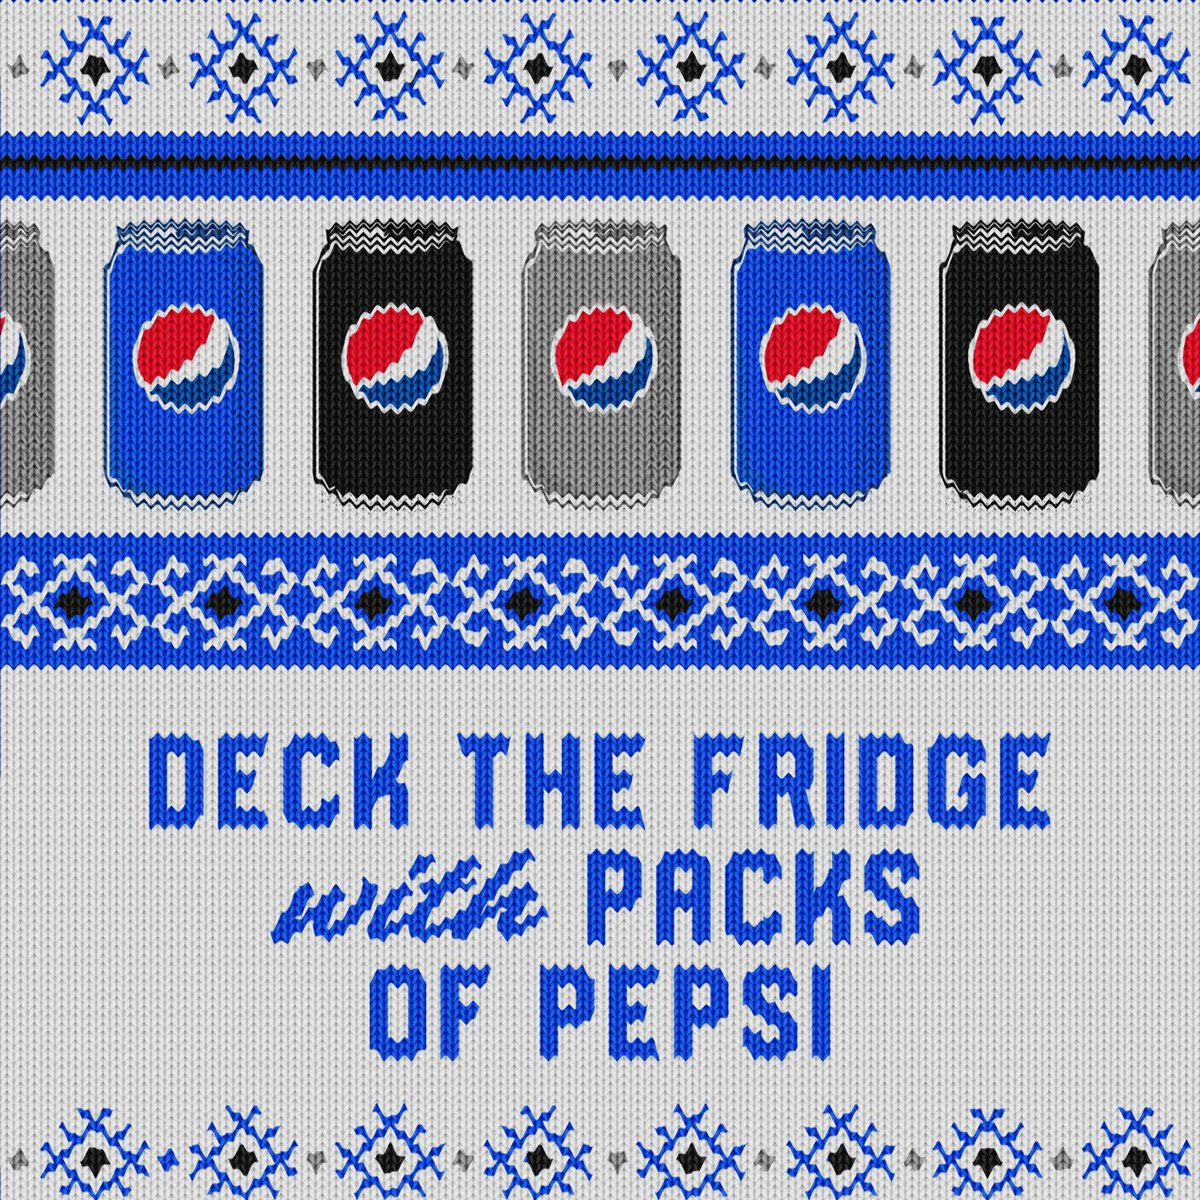pepsi: (337, 296, 445, 413), (964, 296, 1071, 410), (549, 298, 656, 413), (763, 295, 865, 413), (131, 299, 233, 405)
